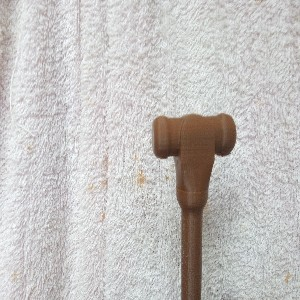palu: (152, 112, 238, 300)
